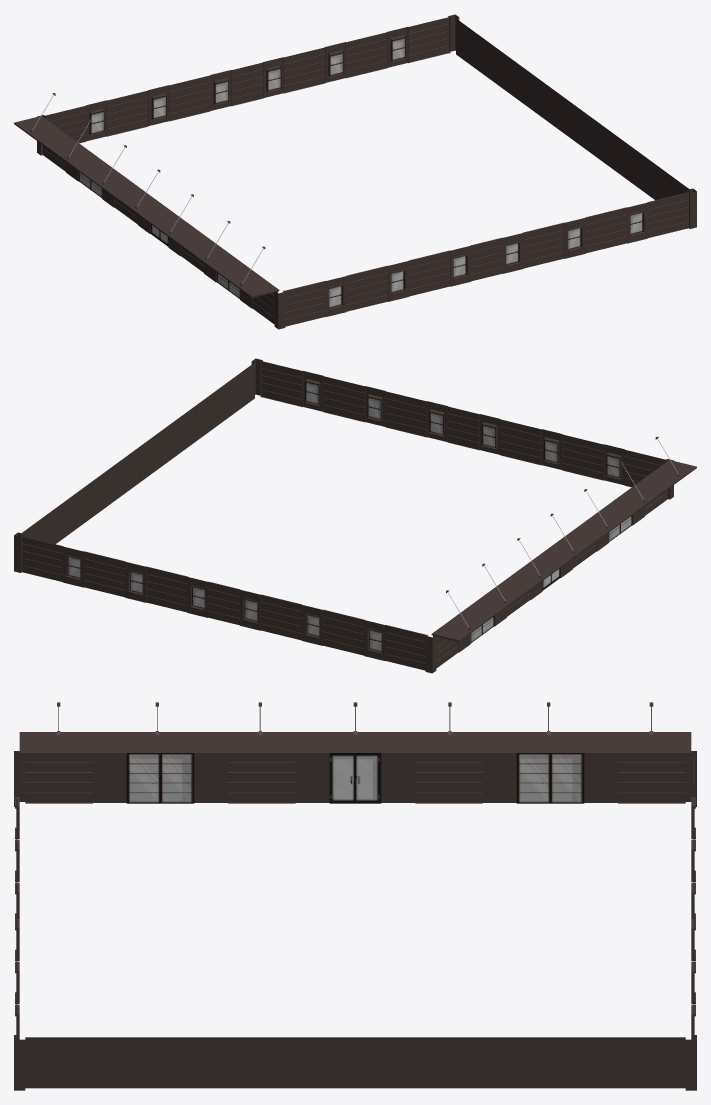
Rendered from BuildingBig4_1.fbx.
The picture shows the model from 3 angles, top to bottom: view 1: azimuth 30°, elevation 25°; view 2: azimuth 150°, elevation 25°; view 3: azimuth 270°, elevation 25°; orthographic projection. The views are drawn at different scales.
Parts seen in each view (by area): view 1: BuildingBig4_1; view 2: BuildingBig4_1; view 3: BuildingBig4_1.
Boxes of the visible parts, left/top/right/bottom form: BuildingBig4_1: left=14, top=14, right=696, bottom=329; BuildingBig4_1: left=14, top=358, right=696, bottom=673; BuildingBig4_1: left=14, top=702, right=696, bottom=1090.
Bounding box in the file's own units: 6420 × 978 × 6060.
